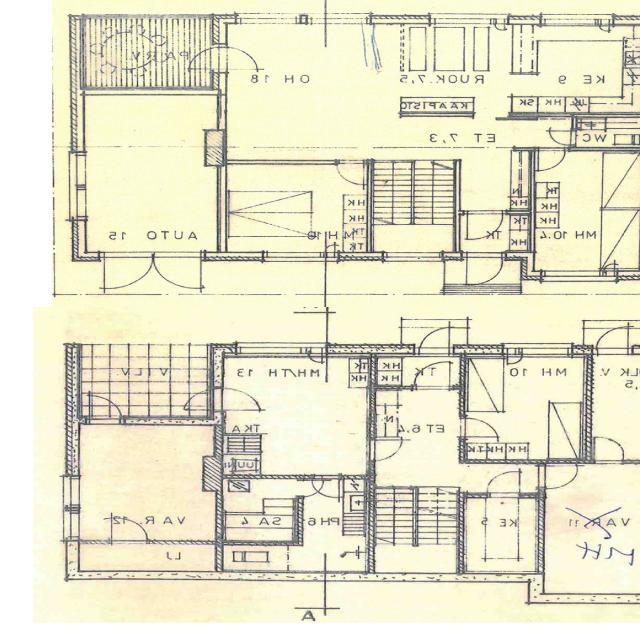door: (153, 251, 201, 294), (105, 251, 153, 294), (467, 251, 501, 285), (212, 47, 260, 70), (178, 47, 226, 70), (597, 323, 629, 357), (89, 392, 121, 424), (420, 324, 451, 357), (113, 516, 147, 545), (467, 210, 502, 238), (415, 362, 449, 390), (182, 389, 225, 411), (212, 389, 255, 411), (536, 467, 575, 490), (594, 440, 624, 466), (488, 473, 518, 498), (368, 441, 403, 460), (539, 147, 565, 170), (338, 159, 364, 182), (461, 419, 494, 437), (316, 475, 341, 497), (293, 481, 324, 496), (551, 131, 576, 145)
